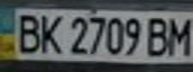0: (106, 14, 127, 56)
2: (66, 12, 90, 55)
7: (87, 13, 109, 55)
9: (121, 15, 145, 57)
B: (9, 10, 45, 54), (145, 15, 172, 57)
K: (33, 11, 66, 55)
M: (163, 14, 193, 56)
